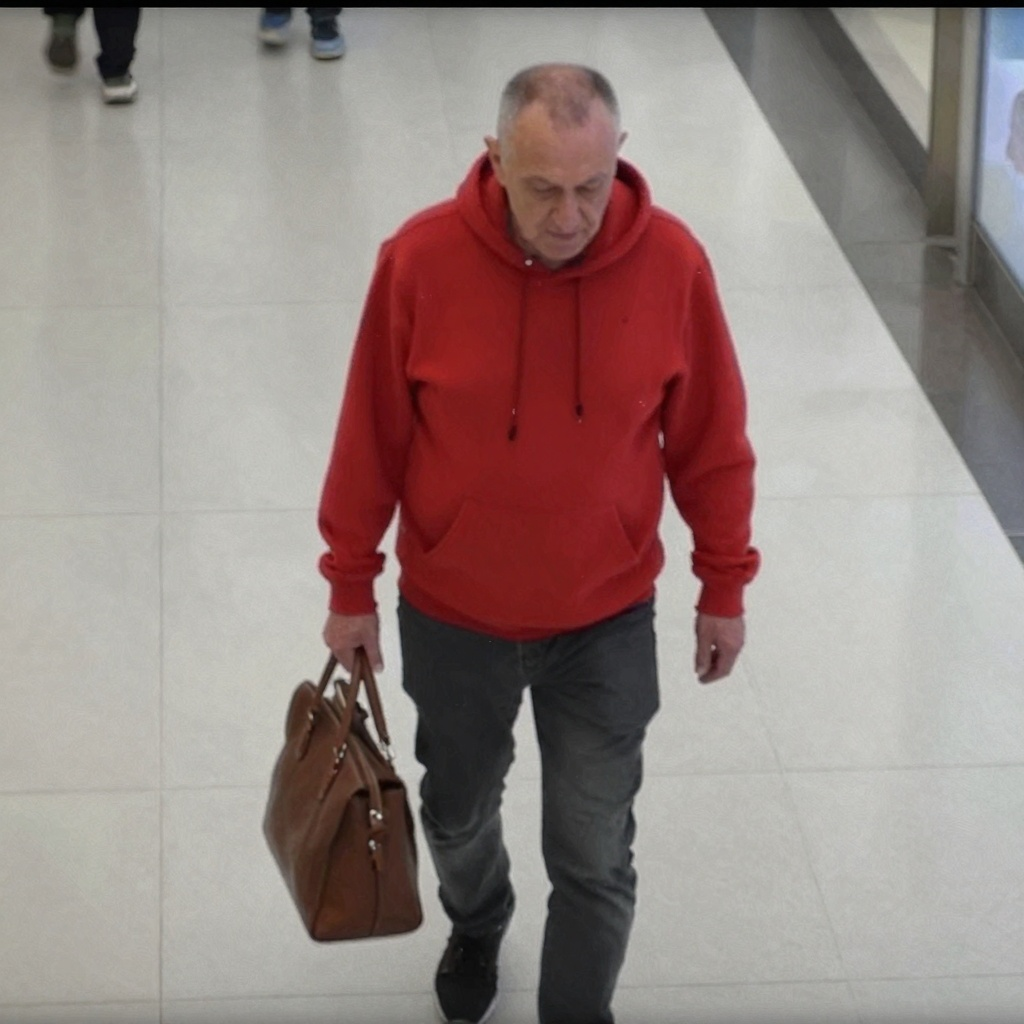Normal activity: (312, 57, 761, 1024), (42, 6, 142, 105), (257, 7, 347, 61)
